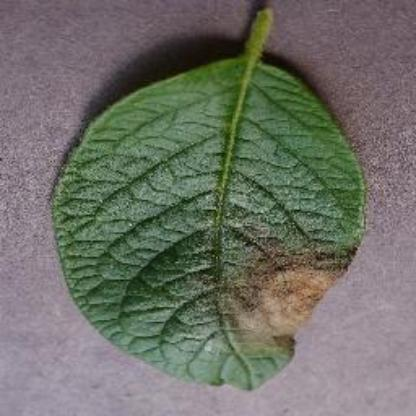Late-Blight: (28, 24, 382, 388)
